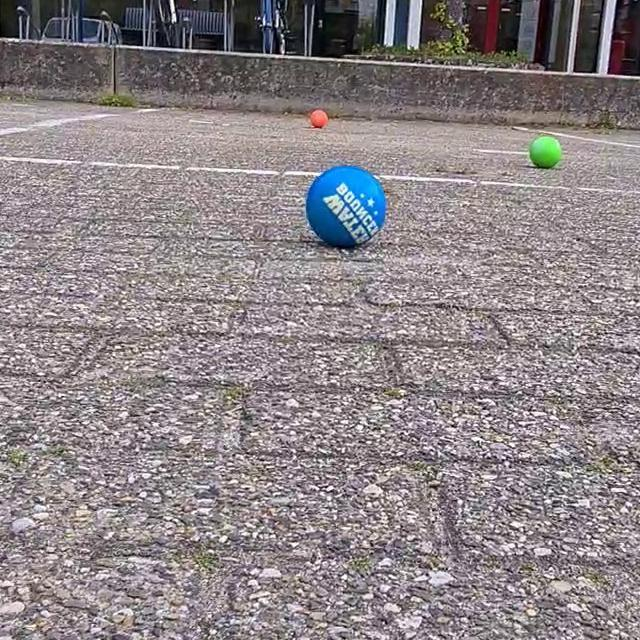ball: (525, 132, 565, 175), (308, 105, 328, 130)
